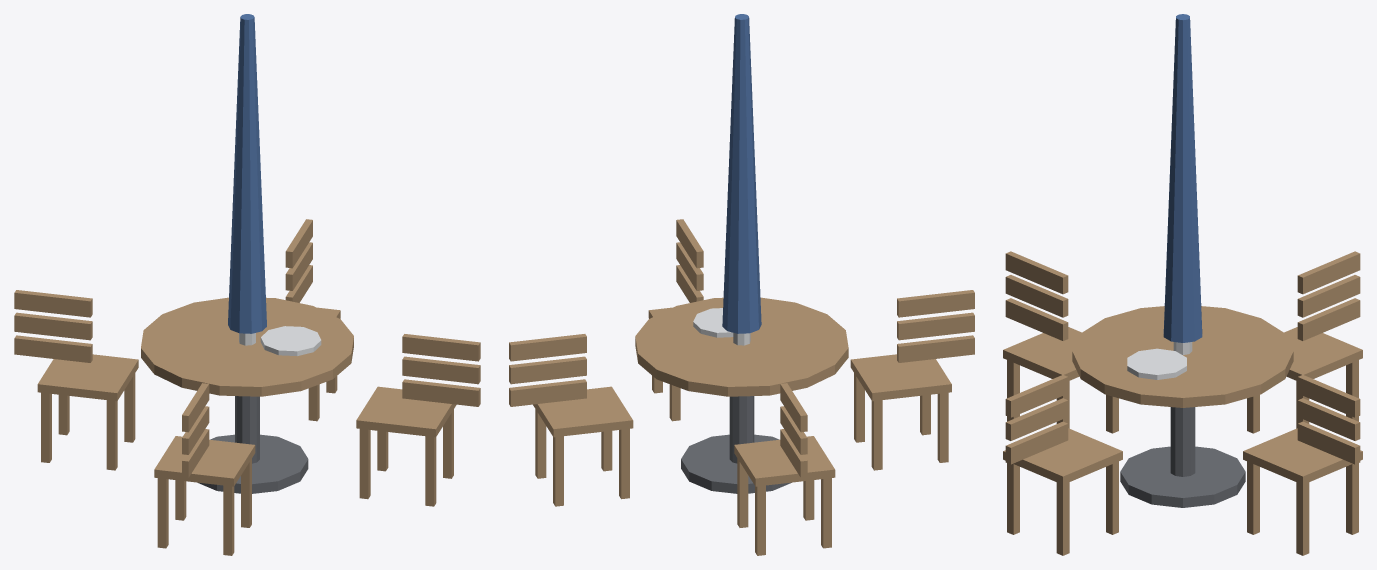
Rendered from marina-and-yacht-club-marina-and-yacht-club-terrace-ta-e463ef37.glb.
The picture shows the model from 3 angles, left to right: view 1: azimuth 30°, elevation 25°; view 2: azimuth 150°, elevation 25°; view 3: azimuth 270°, elevation 25°; orthographic projection. The views are drawn at different scales.
Visible parts, largest first — view 1: marina-and-yacht-club-terrace-table-and-chairs; view 2: marina-and-yacht-club-terrace-table-and-chairs; view 3: marina-and-yacht-club-terrace-table-and-chairs.
Boxes of the visible parts, bbox=[...] form: marina-and-yacht-club-terrace-table-and-chairs: bbox=[14, 14, 480, 555]; marina-and-yacht-club-terrace-table-and-chairs: bbox=[509, 14, 974, 555]; marina-and-yacht-club-terrace-table-and-chairs: bbox=[1003, 14, 1362, 555].
Size of the model in its own units: 1.95 by 2.78 by 1.95.
